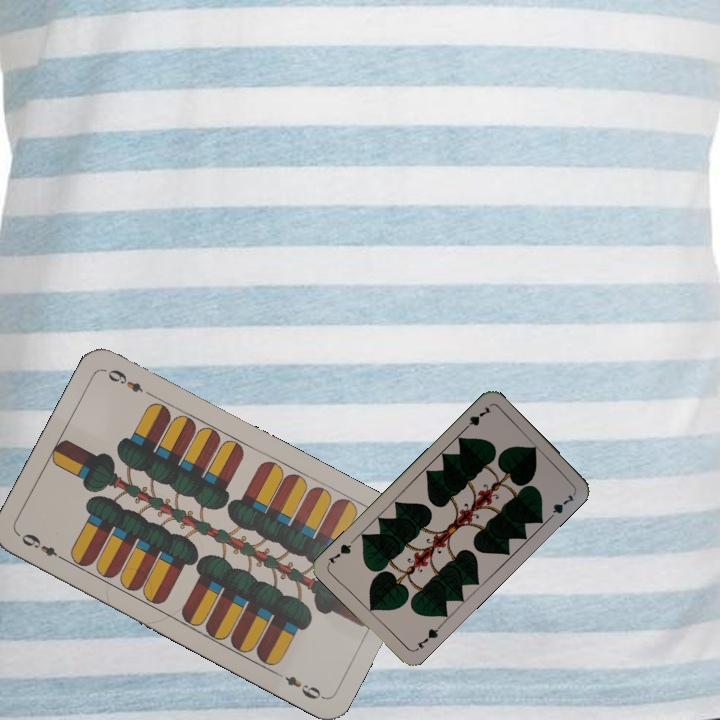E9: (17, 529, 69, 564)
G7: (459, 402, 494, 434), (411, 622, 443, 654)
